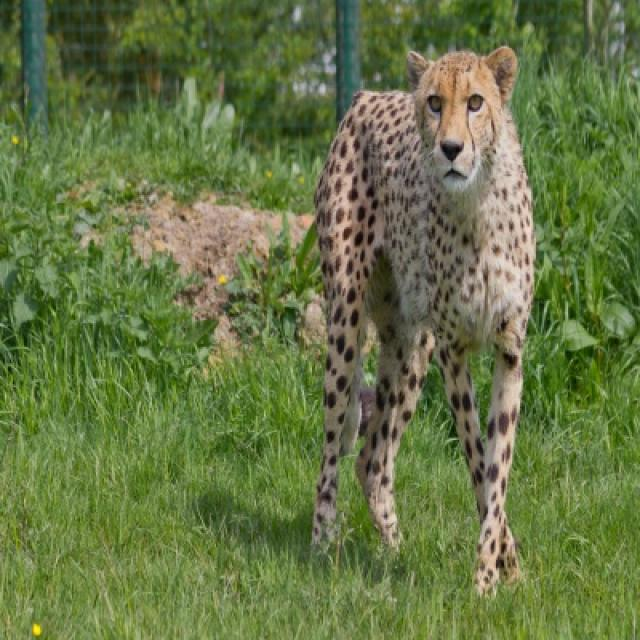Cheetah: (312, 50, 534, 592)
